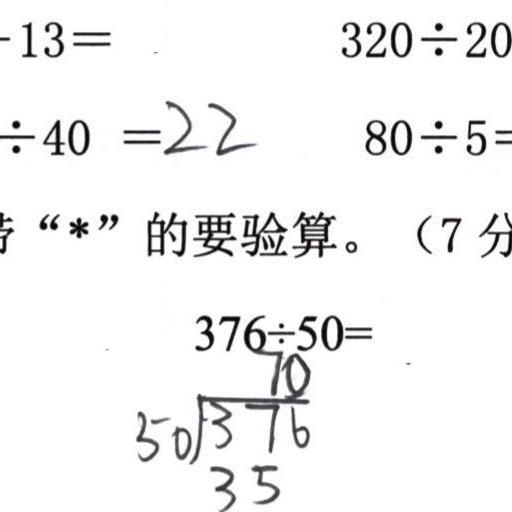ans: (157, 92, 255, 158)
